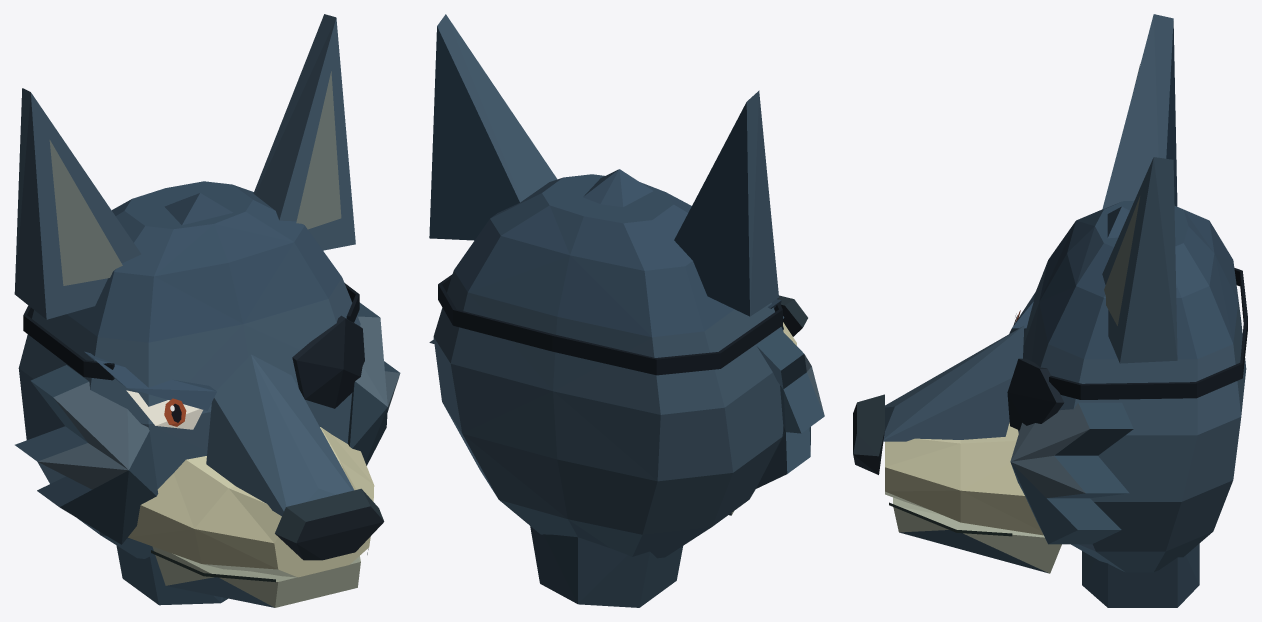
Rendered from head.glb.
3 renders of one model, left to right at view 1: azimuth 30°, elevation 25°; view 2: azimuth 150°, elevation 25°; view 3: azimuth 270°, elevation 25°, orthographic. The views are drawn at different scales.
Visible parts, largest first — view 1: Skull, Snout bridge, Cheek ruff L, Cream muzzle, Ear L, Ear R, Lower jaw, Nose, Ear inset L, Black eyepatch, Cheek ruff R, Ear inset R (+5 smaller); view 2: Skull, Ear R, Ear L, Neck, Eyepatch strap, Cheek ruff L, Crown tuft, Nose; view 3: Skull, Cheek ruff R, Cream muzzle, Ear R, Snout bridge, Ear L, Lower jaw, Neck, Eyepatch strap, Black eyepatch, Nose, Ear inset R.
Part boxes in pixels (x1,y1,x2,y2): Skull: (18, 181, 360, 558); Snout bridge: (206, 354, 353, 516); Cheek ruff L: (15, 365, 158, 544); Cream muzzle: (128, 427, 374, 577); Ear L: (14, 88, 140, 319); Ear R: (253, 14, 355, 250); Lower jaw: (152, 546, 360, 607); Nose: (275, 488, 384, 560); Ear inset L: (49, 140, 122, 285); Black eyepatch: (292, 315, 364, 408); Cheek ruff R: (348, 302, 400, 465); Ear inset R: (296, 71, 341, 229); Skull: (433, 174, 783, 558); Ear R: (429, 14, 557, 240); Ear L: (674, 90, 778, 316); Neck: (530, 526, 682, 607); Eyepatch strap: (438, 274, 782, 375); Cheek ruff L: (756, 328, 824, 488); Crown tuft: (583, 169, 652, 206); Nose: (778, 295, 807, 336); Skull: (1018, 201, 1246, 572); Cheek ruff R: (1010, 402, 1133, 544); Cream muzzle: (885, 422, 1043, 535); Ear R: (1102, 157, 1177, 363); Snout bridge: (883, 326, 1024, 441); Ear L: (1102, 14, 1177, 209); Lower jaw: (893, 497, 1061, 573); Neck: (1082, 543, 1199, 607); Eyepatch strap: (1049, 268, 1247, 399); Black eyepatch: (1007, 358, 1064, 430); Nose: (853, 394, 884, 474); Ear inset R: (1104, 196, 1140, 325).
Bounding box in the file's own units: 0.2188 × 0.3 × 0.2148.
